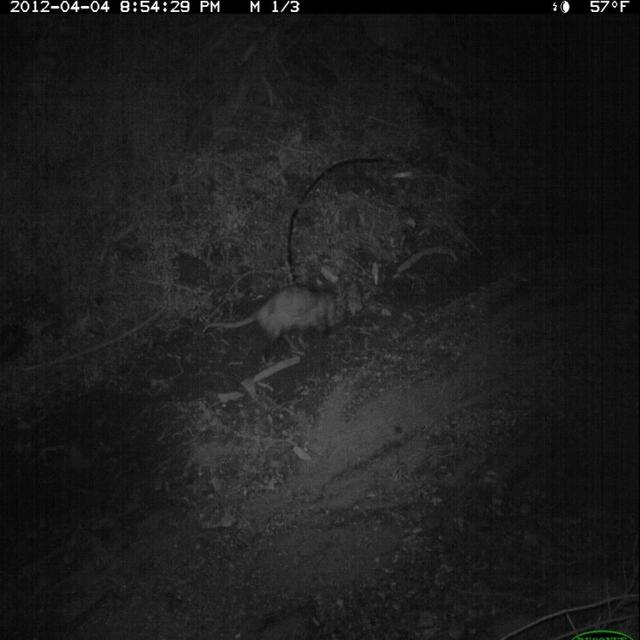opossum: (199, 280, 355, 366)
